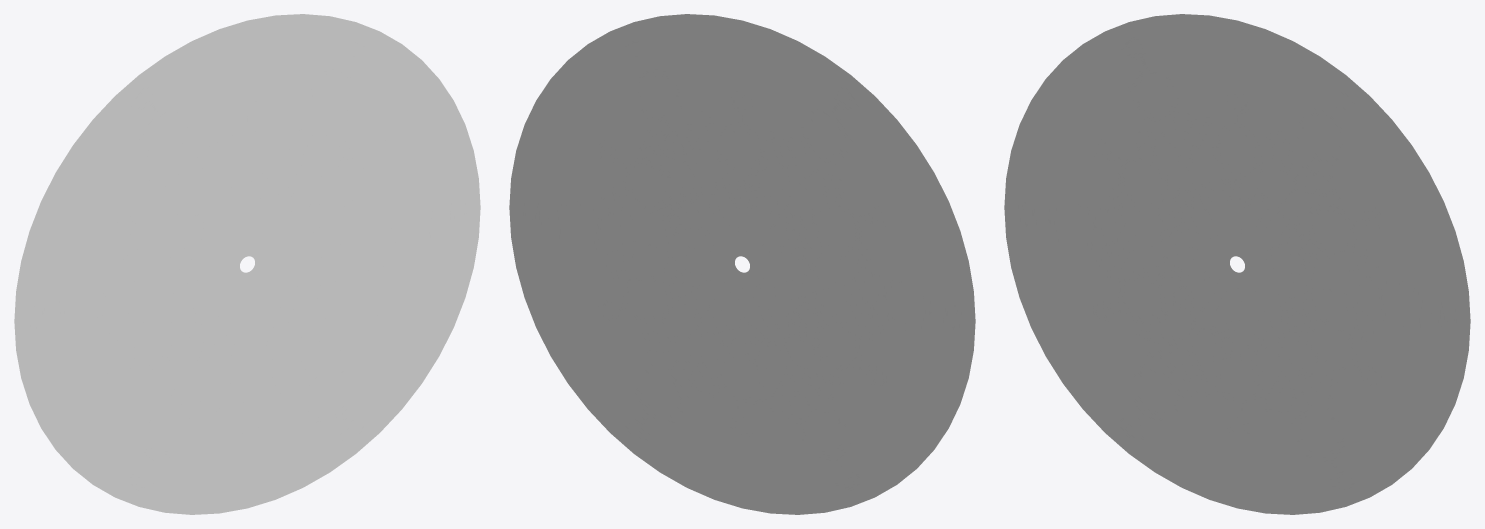
Rendered from eff_mesh_j_yiwozuo_pifu_02.glb.
The picture shows the model from 3 angles, left to right: view 1: azimuth 30°, elevation 25°; view 2: azimuth 150°, elevation 25°; view 3: azimuth 330°, elevation 25°; orthographic projection.
Visible parts, largest first — view 1: eff_mesh_j_yiwozuo_pifu_02; view 2: eff_mesh_j_yiwozuo_pifu_02; view 3: eff_mesh_j_yiwozuo_pifu_02.
Boxes of the visible parts, x1,y1,x2,y2 form: eff_mesh_j_yiwozuo_pifu_02: [14, 14, 480, 514]; eff_mesh_j_yiwozuo_pifu_02: [509, 14, 975, 514]; eff_mesh_j_yiwozuo_pifu_02: [1004, 14, 1470, 514].
Size of the model in its own units: 2.63 by 2.63 by 1.86e-07.
Materials: 1 (1 with a texture image).
